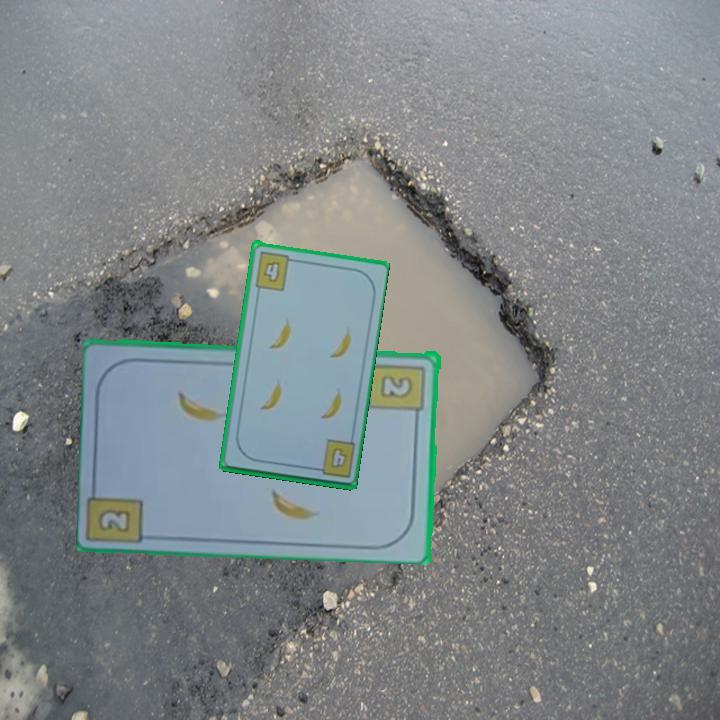2b: (365, 359, 428, 423), (94, 505, 134, 535)
4b: (251, 247, 298, 293), (309, 436, 357, 481)
